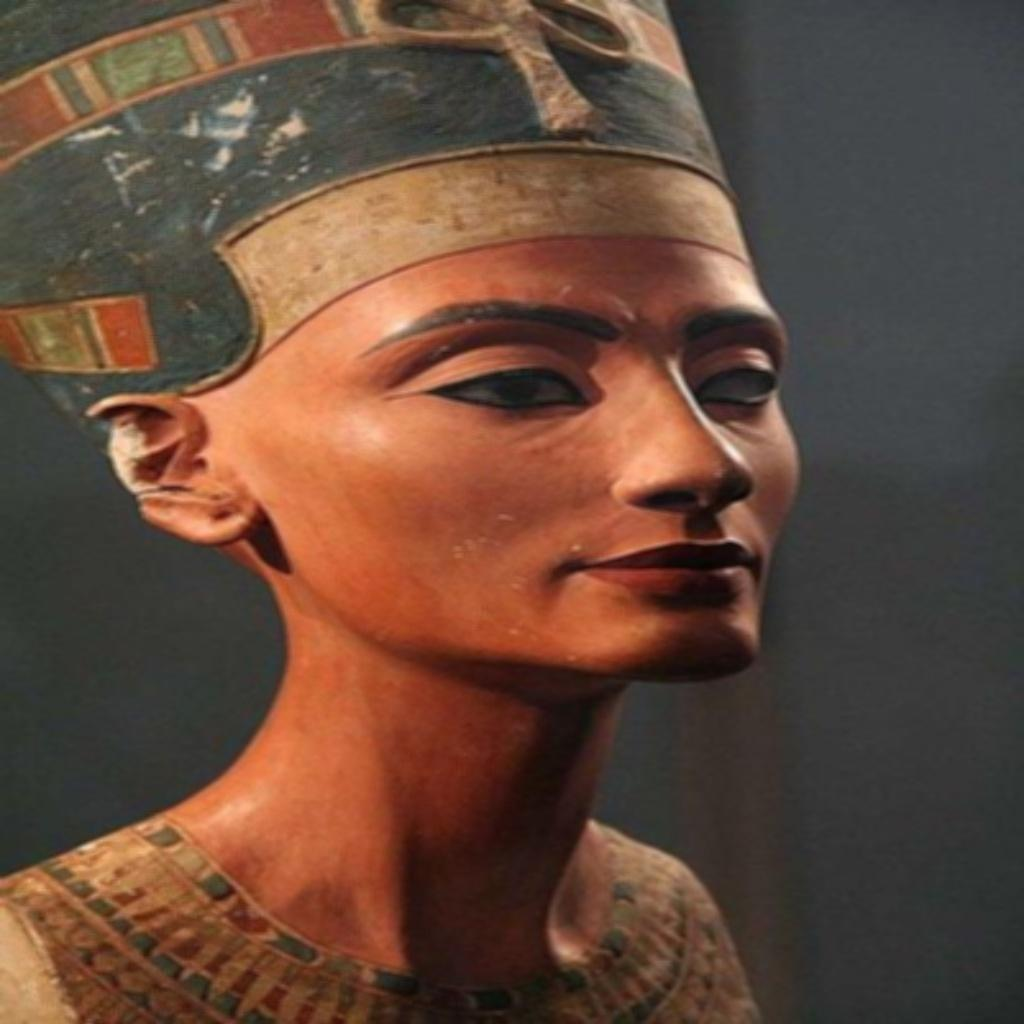Nefertiti: (0, 0, 809, 1021)
